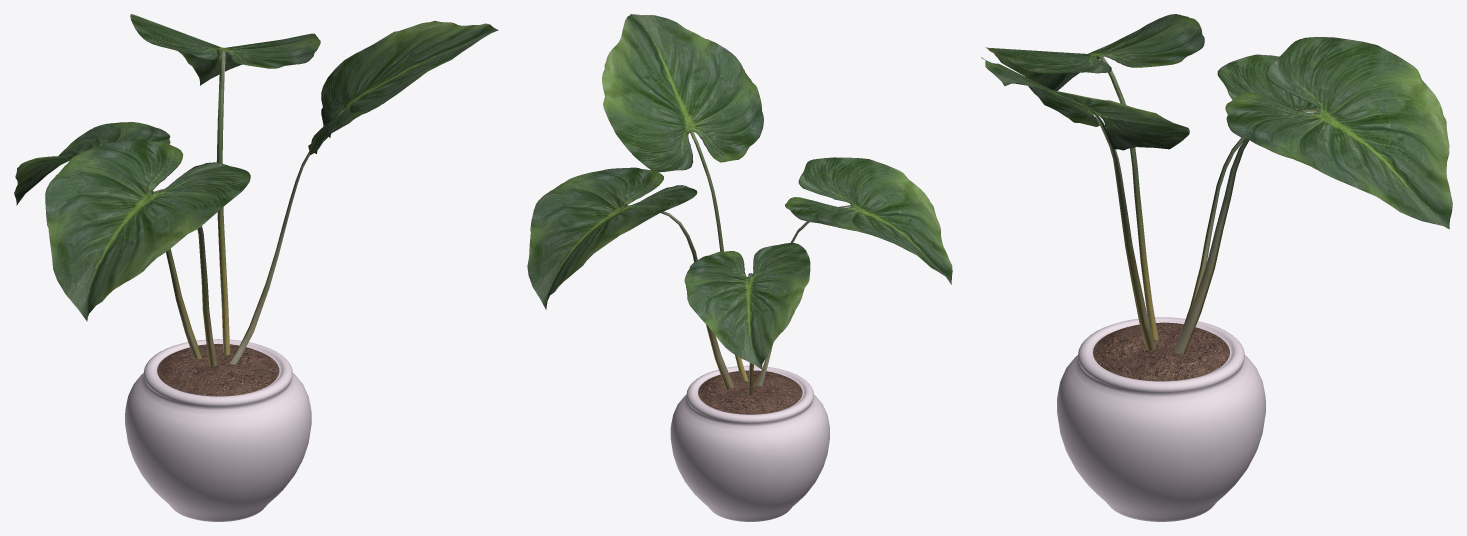
Rendered from plant.gltf.
The picture shows the model from 3 angles, left to right: view 1: azimuth 30°, elevation 25°; view 2: azimuth 150°, elevation 25°; view 3: azimuth 270°, elevation 25°; orthographic projection. The views are drawn at different scales.
Visible parts, largest first — view 1: Pot, Leaf1, Leaf4, Leaf3, Leaf2; view 2: Pot, Leaf4, Leaf3, Leaf2, Leaf1; view 3: Pot, Leaf3, Leaf1, Leaf4, Leaf2.
Part boxes in pixels (x1,y1,x2,y2): Pot: (125,339,311,521); Leaf1: (45,139,250,367); Leaf4: (229,20,498,364); Leaf3: (130,14,320,355); Leaf2: (14,122,202,359); Pot: (670,365,829,521); Leaf4: (602,14,763,381); Leaf3: (527,167,734,389); Leaf2: (684,243,810,395); Leaf1: (756,157,952,386); Pot: (1057,317,1265,521); Leaf3: (1172,37,1452,354); Leaf1: (985,14,1204,340); Leaf4: (981,57,1189,350); Leaf2: (1182,54,1317,329).
Bounding box in the file's own units: 2.06 × 2.3 × 1.86.
6 materials, 5 textured.
